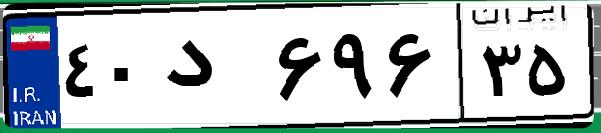0: (110, 28, 158, 98)
3: (475, 38, 525, 113)
4: (57, 26, 110, 100)
5: (525, 38, 570, 115)
6: (270, 28, 330, 110), (385, 28, 445, 110)
9: (330, 28, 385, 110)
د: (158, 20, 270, 120)
